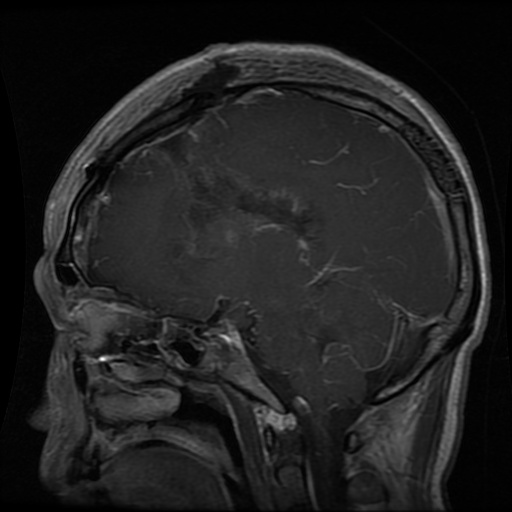glioma: (146, 128, 325, 268)
